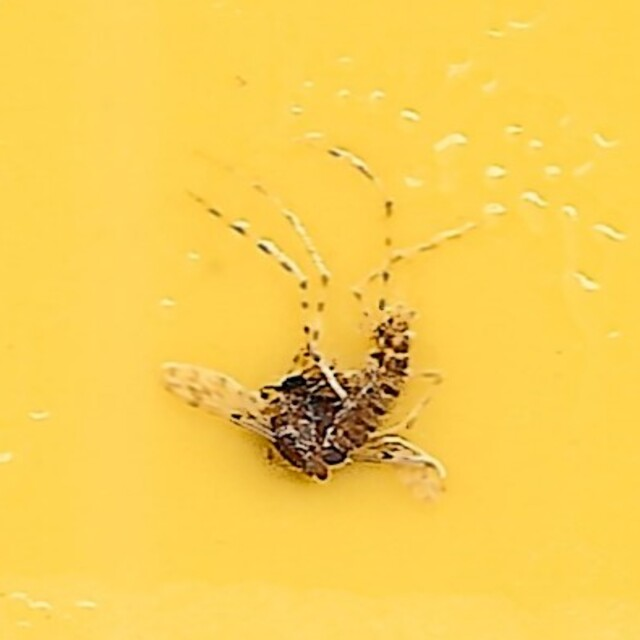Nematocera: (162, 142, 478, 498)
